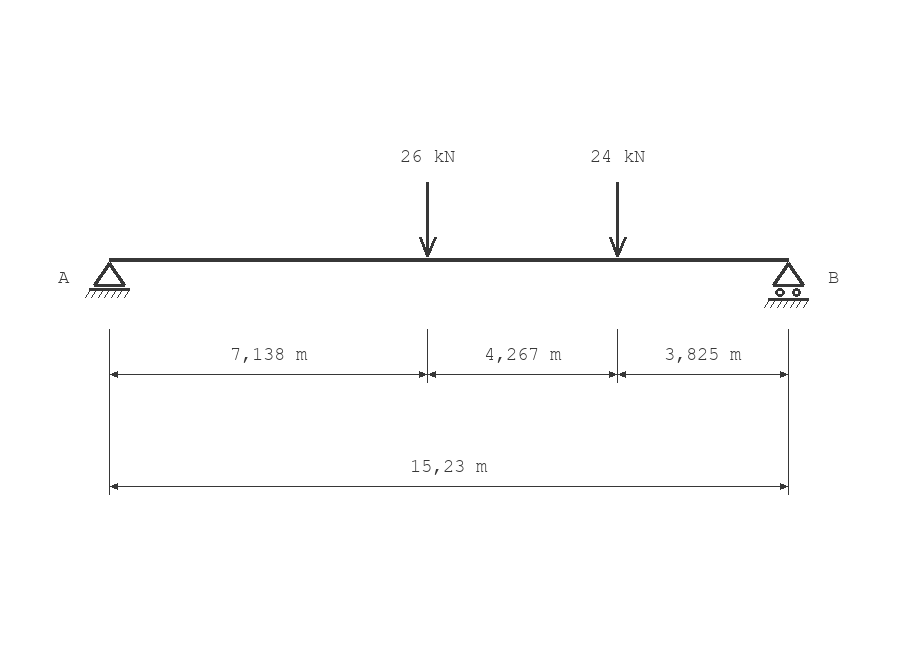pin_support: (85, 262, 130, 298)
point_load: (419, 182, 437, 257), (609, 182, 627, 257)
roller_support: (764, 262, 809, 308)
